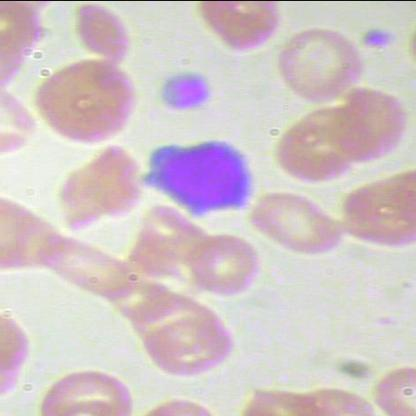Platelets: (150, 63, 215, 113), (355, 26, 396, 52)
RBC: (32, 57, 140, 146), (268, 22, 366, 107), (251, 185, 347, 257), (184, 230, 261, 296), (195, 1, 280, 52), (73, 0, 137, 58)
WBC: (140, 138, 264, 214)
